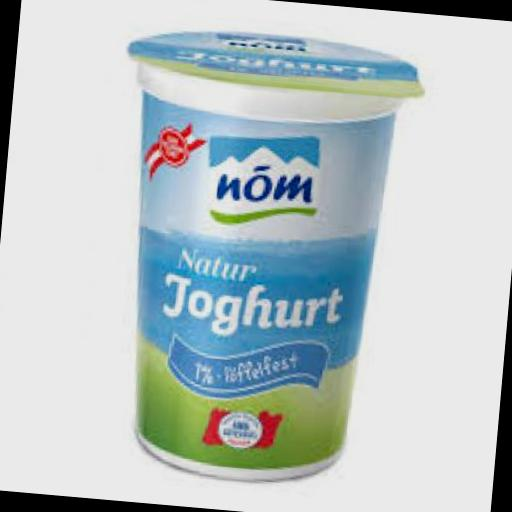plastic: (88, 20, 429, 492)
